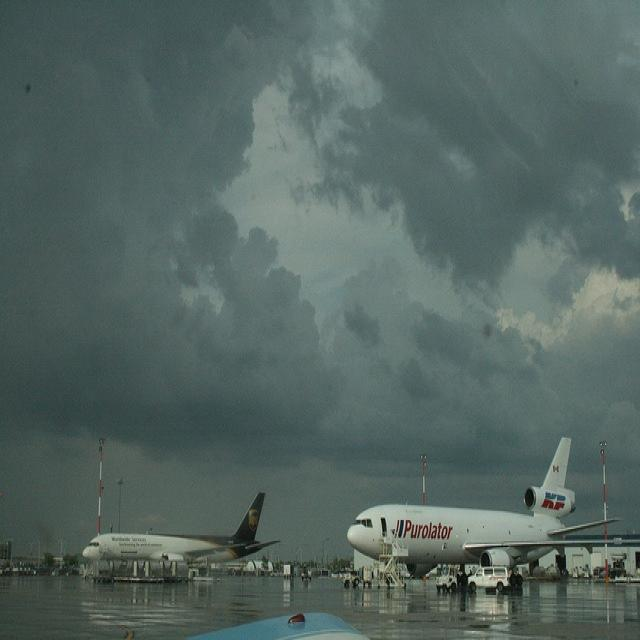truck: (466, 562, 510, 589), (434, 562, 465, 591)
